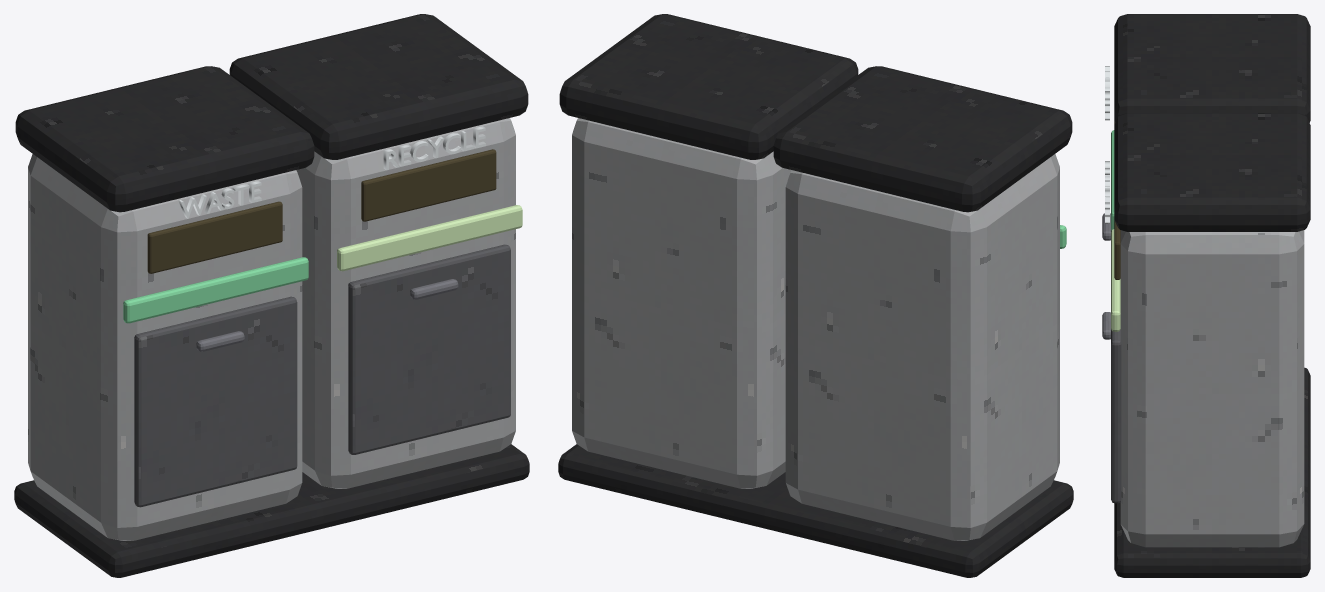
Rendered from decor_hall_waste_station.glb.
3 views of the same model, side by side, from view 1: azimuth 30°, elevation 25°; view 2: azimuth 150°, elevation 25°; view 3: azimuth 270°, elevation 25° (orthographic). The views are drawn at different scales.
Visible parts, largest first — view 1: DEC_HallWasteStation__Bin_0, DEC_HallWasteStation__Bin_1, DEC_HallWasteStation__Door_0, DEC_HallWasteStation__Lid_0, DEC_HallWasteStation__Door_1, DEC_HallWasteStation__Lid_1, DEC_HallWasteStation__Base, DEC_HallWasteStation__Slot_0, DEC_HallWasteStation__Slot_1, DEC_HallWasteStation__Band_1, DEC_HallWasteStation__Band_0, DEC_HallWasteStation__Label_1 (+1 smaller); view 2: DEC_HallWasteStation__Bin_0, DEC_HallWasteStation__Bin_1, DEC_HallWasteStation__Lid_0, DEC_HallWasteStation__Lid_1, DEC_HallWasteStation__Base; view 3: DEC_HallWasteStation__Bin_1, DEC_HallWasteStation__Lid_1, DEC_HallWasteStation__Lid_0, DEC_HallWasteStation__Base, DEC_HallWasteStation__Door_1, DEC_HallWasteStation__Band_1, DEC_HallWasteStation__Band_0, DEC_HallWasteStation__Slot_1, DEC_HallWasteStation__Label_1.
Boxes of the visible parts, x1=… form: DEC_HallWasteStation__Bin_0: x1=28, y1=154, x2=302, y2=540; DEC_HallWasteStation__Bin_1: x1=296, y1=118, x2=515, y2=488; DEC_HallWasteStation__Door_0: x1=134, y1=296, x2=297, y2=507; DEC_HallWasteStation__Lid_0: x1=15, y1=66, x2=314, y2=212; DEC_HallWasteStation__Door_1: x1=348, y1=244, x2=510, y2=454; DEC_HallWasteStation__Lid_1: x1=229, y1=14, x2=528, y2=159; DEC_HallWasteStation__Base: x1=14, y1=444, x2=529, y2=577; DEC_HallWasteStation__Slot_0: x1=147, y1=201, x2=282, y2=273; DEC_HallWasteStation__Slot_1: x1=361, y1=149, x2=496, y2=221; DEC_HallWasteStation__Band_1: x1=337, y1=205, x2=522, y2=271; DEC_HallWasteStation__Band_0: x1=123, y1=257, x2=308, y2=323; DEC_HallWasteStation__Label_1: x1=383, y1=126, x2=485, y2=170; DEC_HallWasteStation__Bin_0: x1=785, y1=154, x2=1059, y2=540; DEC_HallWasteStation__Bin_1: x1=572, y1=118, x2=791, y2=488; DEC_HallWasteStation__Lid_0: x1=773, y1=66, x2=1072, y2=212; DEC_HallWasteStation__Lid_1: x1=559, y1=14, x2=858, y2=159; DEC_HallWasteStation__Base: x1=558, y1=444, x2=1073, y2=577; DEC_HallWasteStation__Bin_1: x1=1120, y1=230, x2=1304, y2=547; DEC_HallWasteStation__Lid_1: x1=1114, y1=113, x2=1310, y2=231; DEC_HallWasteStation__Lid_0: x1=1114, y1=14, x2=1310, y2=122; DEC_HallWasteStation__Base: x1=1114, y1=367, x2=1310, y2=577; DEC_HallWasteStation__Door_1: x1=1111, y1=329, x2=1121, y2=503; DEC_HallWasteStation__Band_1: x1=1111, y1=229, x2=1120, y2=331; DEC_HallWasteStation__Band_0: x1=1111, y1=130, x2=1114, y2=230; DEC_HallWasteStation__Slot_1: x1=1114, y1=220, x2=1120, y2=279; DEC_HallWasteStation__Label_1: x1=1105, y1=161, x2=1109, y2=223.
Size of the model in its own units: 1.1 by 1 by 0.4985.
Materials: 8 (4 with a texture image).
